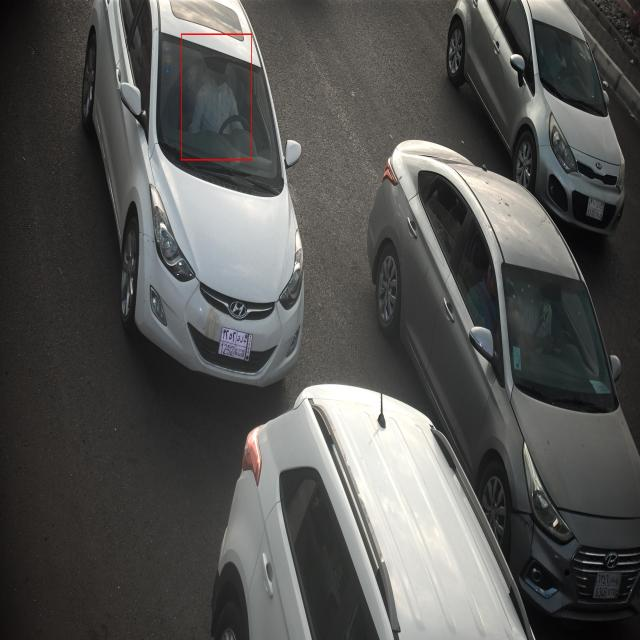windshield: (150, 25, 290, 199), (495, 258, 619, 430), (530, 15, 612, 120)
